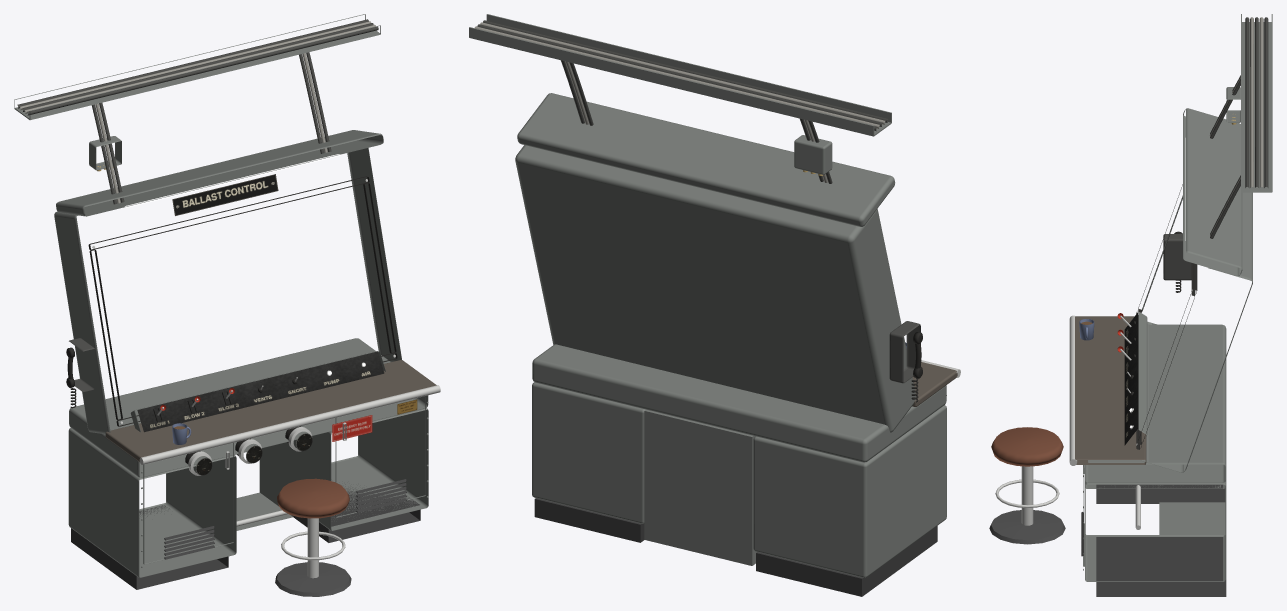
Rendered from ballast_control.glb.
3 renders of one model, left to right at view 1: azimuth 30°, elevation 25°; view 2: azimuth 150°, elevation 25°; view 3: azimuth 270°, elevation 25°, orthographic. The views are drawn at different scales.
Parts seen in each view (by area): view 1: body; view 2: body; view 3: body.
Boxes of the visible parts, x1,y1,x2,y2 form: body: [14, 14, 440, 596]; body: [469, 14, 960, 596]; body: [989, 14, 1272, 596].
Bounding box in the file's own units: 2.1 × 2.48 × 1.48.
14 materials, 7 textured.
